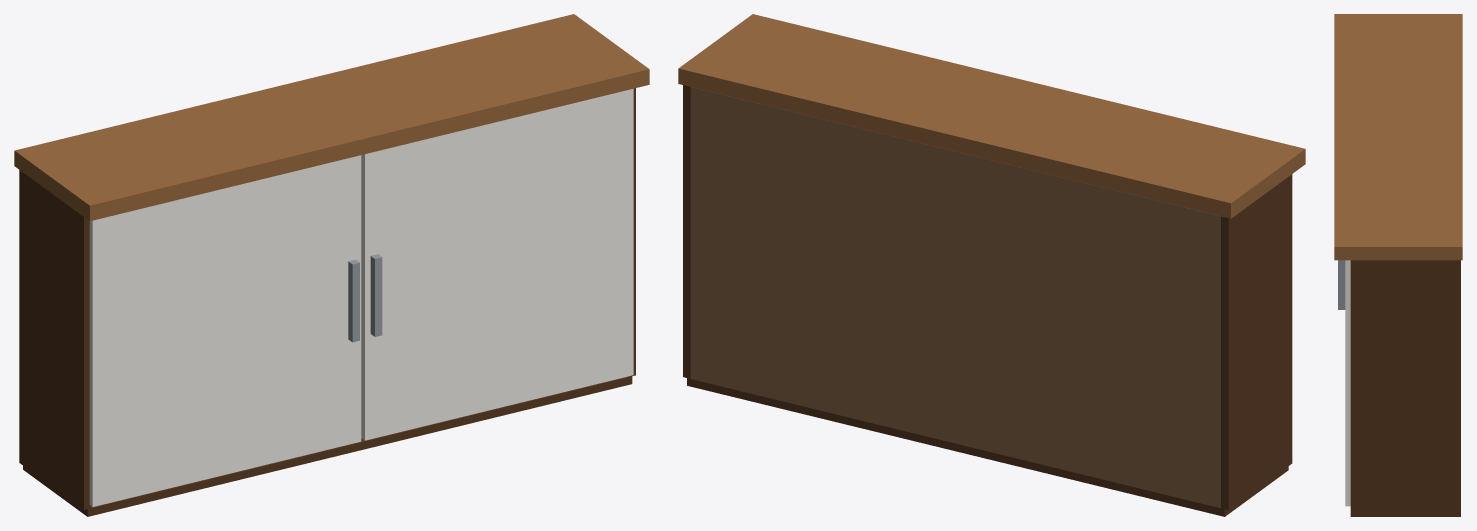
Rendered from wallcabinet-lite.glb.
The picture shows the model from 3 angles, left to right: view 1: azimuth 30°, elevation 25°; view 2: azimuth 150°, elevation 25°; view 3: azimuth 270°, elevation 25°; orthographic projection. The views are drawn at different scales.
Visible parts, largest first — view 1: material-1-door, material-2-top, material-0-body, material-5-metal; view 2: material-3-interior, material-2-top, material-0-body; view 3: material-2-top, material-0-body, material-1-door, material-5-metal.
Boxes of the visible parts, x1,y1,x2,y2 form: material-1-door: (89, 88, 633, 506); material-2-top: (14, 14, 649, 221); material-0-body: (19, 88, 635, 516); material-5-metal: (348, 254, 382, 342); material-3-interior: (690, 87, 1220, 508); material-2-top: (678, 14, 1305, 218); material-0-body: (683, 85, 1292, 516); material-2-top: (1334, 14, 1462, 260); material-0-body: (1350, 260, 1460, 516); material-1-door: (1345, 260, 1350, 506); material-5-metal: (1338, 260, 1345, 309).
Bounding box in the file's own units: 1.5 × 0.82 × 0.35.
